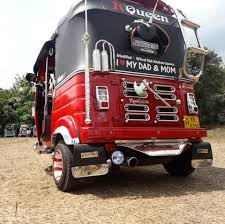tuk tuk: (25, 1, 215, 193)
